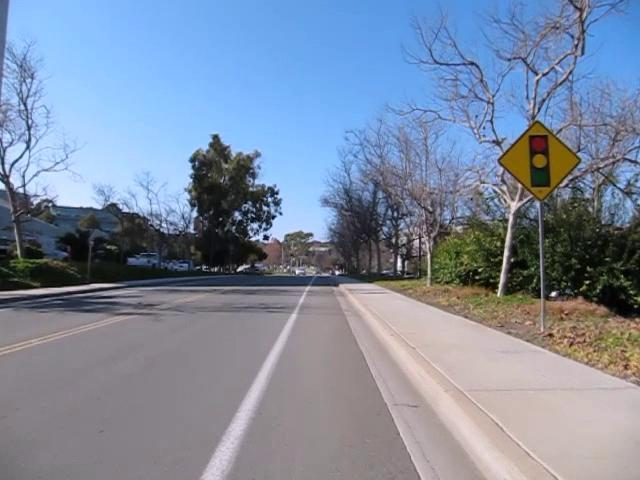signalAhead: (497, 119, 581, 202)
